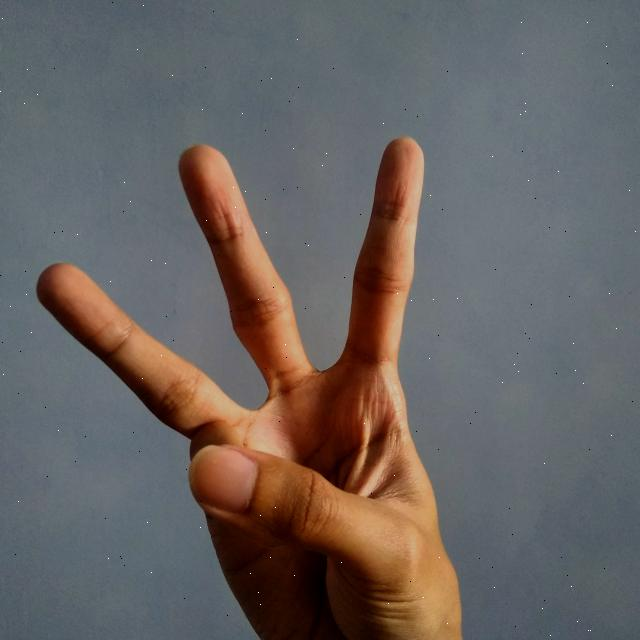W: (24, 120, 480, 640)
